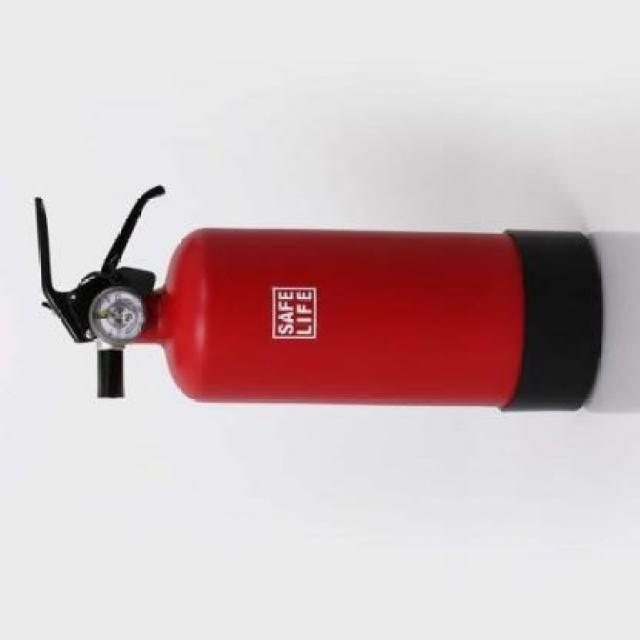fire extinguisher: (35, 185, 601, 411)
